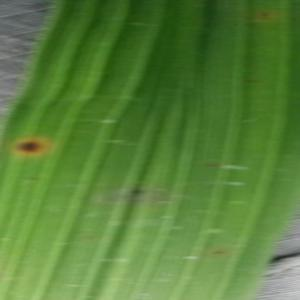Brown_Spot: (9, 134, 50, 158), (209, 245, 228, 259), (127, 186, 147, 198), (257, 9, 271, 19)
